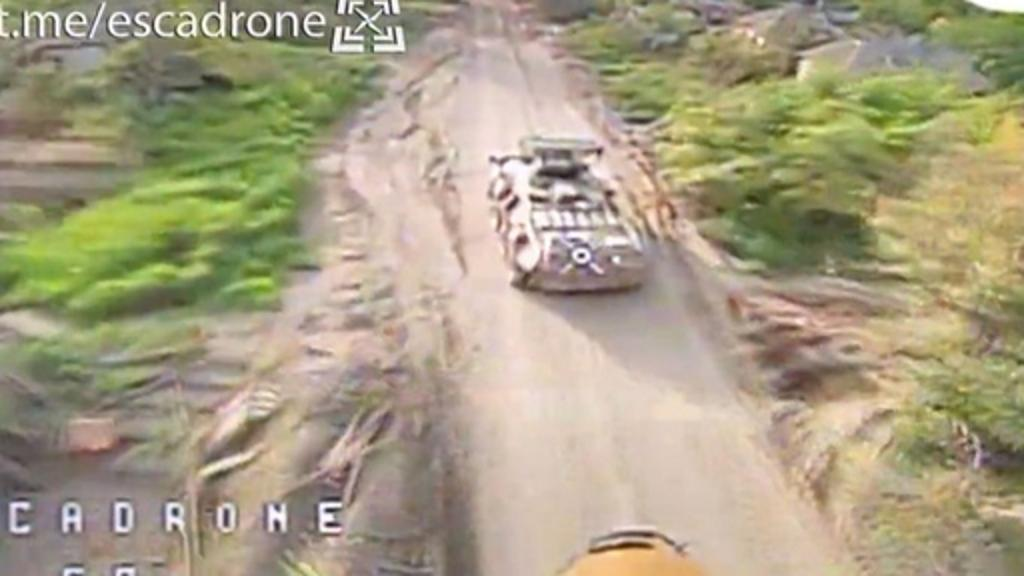APC-IFV: (468, 120, 660, 300)
